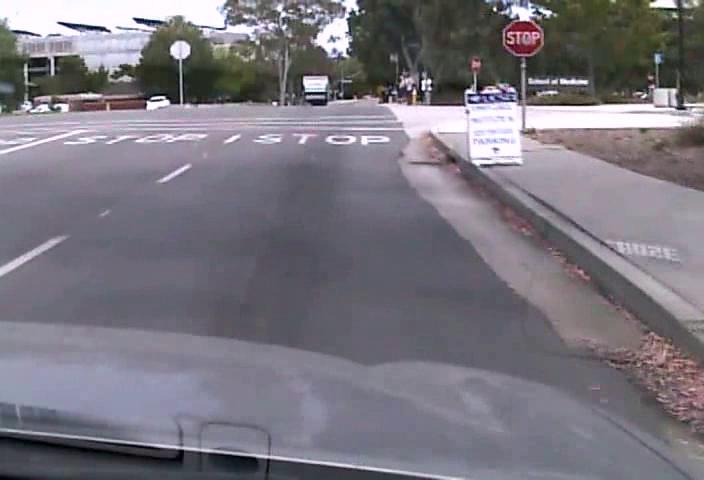stop: (502, 19, 544, 56)
